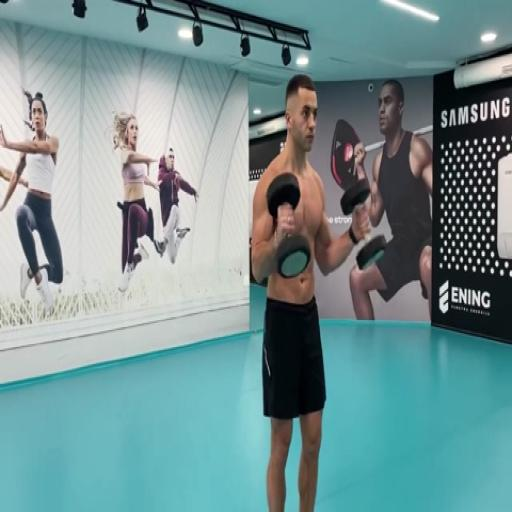exercise: (248, 72, 374, 510), (347, 77, 435, 324), (0, 87, 66, 317), (109, 109, 165, 296)
